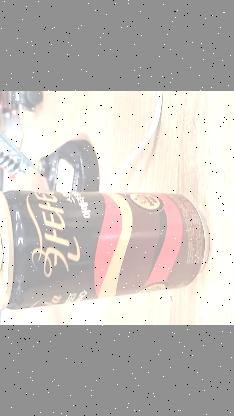Can: (0, 182, 201, 311)
